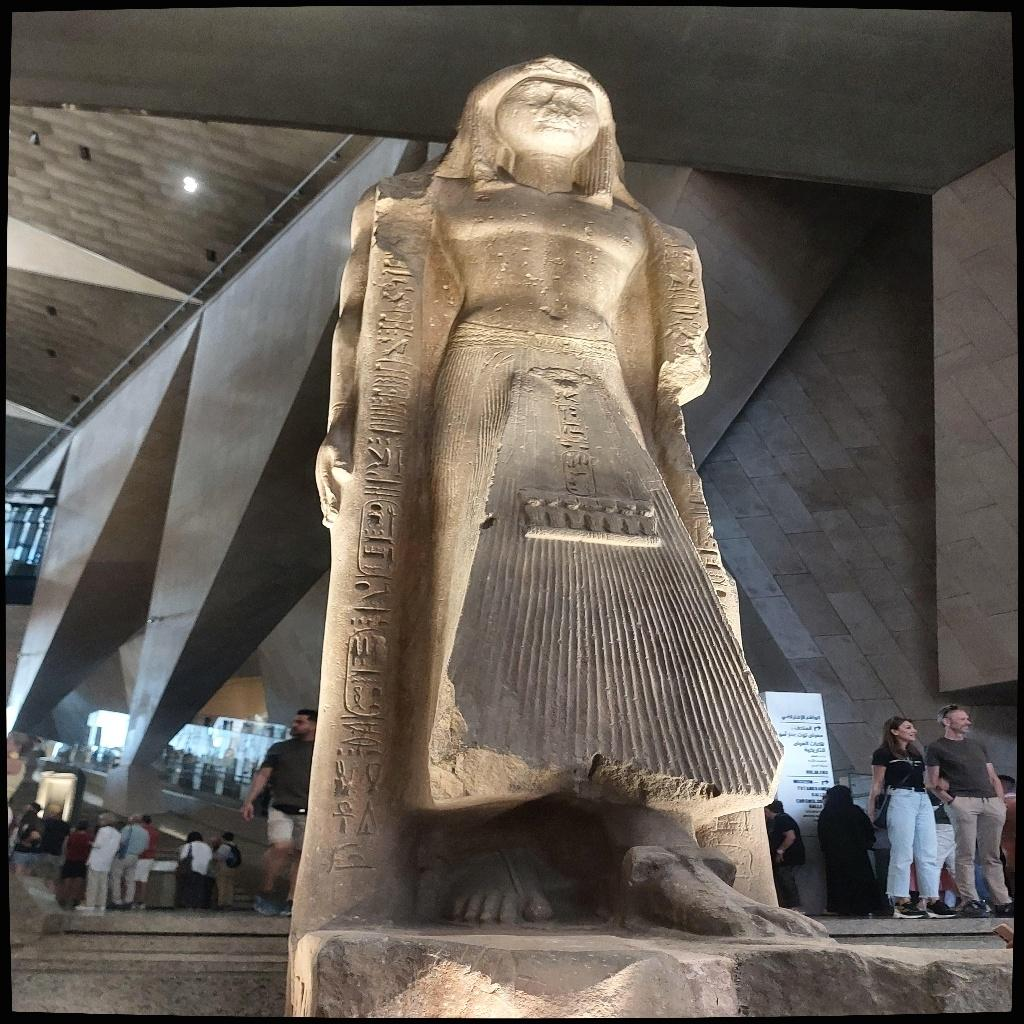Statue of King Sety Il Holding Standards: (313, 52, 783, 940)
